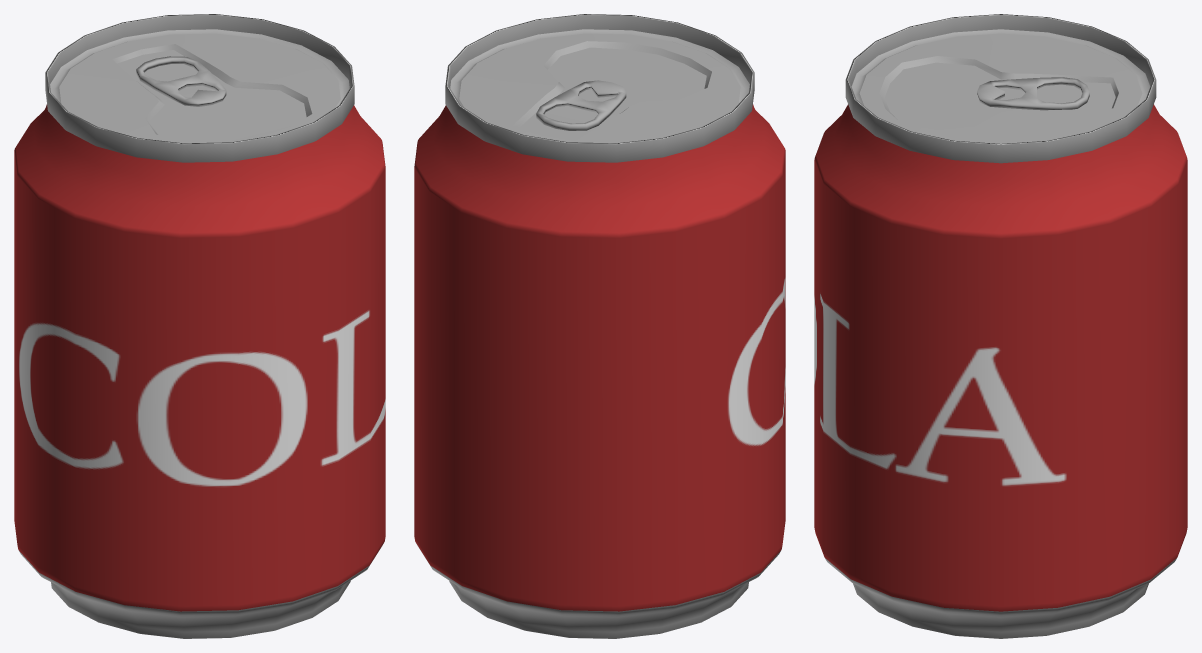
The model's file is Cola Can.fbx.
3 views of the same model, side by side, from view 1: azimuth 30°, elevation 25°; view 2: azimuth 150°, elevation 25°; view 3: azimuth 270°, elevation 25° (orthographic).
Parts seen in each view (by area): view 1: polySurface2; view 2: polySurface2; view 3: polySurface2.
Part boxes in pixels (x1=…): polySurface2: x1=14, y1=14, x2=385, y2=638; polySurface2: x1=414, y1=14, x2=785, y2=638; polySurface2: x1=814, y1=14, x2=1187, y2=638.
Size of the model in its own units: 0.9791 by 1.44 by 0.9791.
Materials: 1 (1 with a texture image).
